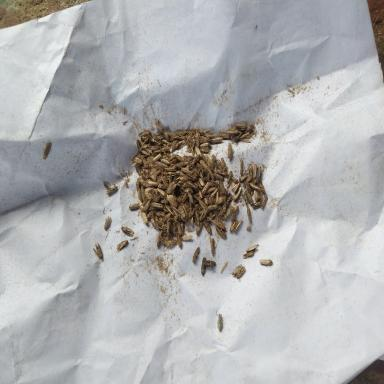pbw: (42, 140, 52, 160), (225, 142, 236, 160), (166, 180, 178, 195), (245, 242, 260, 254), (208, 236, 217, 255), (213, 217, 226, 230), (192, 246, 201, 264), (216, 309, 223, 332), (116, 240, 129, 252), (121, 225, 134, 237), (231, 264, 242, 278), (259, 258, 274, 268), (244, 163, 253, 179), (106, 183, 118, 195), (144, 187, 155, 200), (236, 264, 246, 278), (244, 190, 254, 204), (156, 229, 163, 247), (230, 206, 239, 220), (225, 170, 232, 188), (234, 219, 243, 233), (148, 168, 157, 182), (153, 120, 164, 131), (216, 226, 226, 238), (234, 186, 242, 201), (203, 219, 212, 232), (231, 181, 240, 194), (104, 215, 112, 229), (140, 209, 148, 223), (202, 260, 216, 268), (194, 145, 202, 159), (196, 222, 204, 236), (175, 139, 186, 149), (242, 177, 252, 188), (161, 176, 170, 188), (199, 199, 208, 211), (155, 161, 168, 169), (258, 181, 266, 194), (230, 219, 238, 232), (171, 205, 179, 218), (202, 182, 210, 195), (199, 208, 207, 221), (176, 231, 182, 248), (242, 126, 252, 136), (238, 172, 248, 182), (240, 132, 250, 142), (132, 152, 142, 162), (150, 137, 162, 145), (186, 181, 198, 189), (172, 153, 184, 161), (127, 203, 140, 210), (150, 201, 163, 208), (147, 209, 157, 218), (140, 156, 149, 166), (156, 187, 166, 196), (137, 188, 143, 203), (201, 257, 206, 275), (188, 207, 196, 218), (252, 200, 263, 208), (213, 173, 224, 181), (181, 167, 192, 175), (136, 177, 142, 191), (138, 148, 150, 155), (226, 128, 240, 134), (137, 198, 144, 210), (199, 147, 211, 154), (215, 158, 222, 170), (210, 137, 222, 144), (166, 239, 178, 246), (176, 221, 182, 235), (261, 194, 267, 208), (221, 158, 227, 172), (154, 168, 164, 176), (195, 209, 200, 225), (144, 200, 152, 210), (207, 212, 215, 222), (153, 153, 161, 163), (247, 206, 252, 222), (253, 164, 257, 184), (192, 154, 200, 164), (208, 168, 214, 181), (136, 140, 142, 153), (221, 260, 227, 273), (138, 131, 151, 137), (200, 152, 207, 163), (218, 169, 229, 176), (249, 183, 260, 190), (195, 132, 200, 147), (198, 169, 204, 181), (131, 158, 143, 164), (199, 160, 208, 168), (188, 192, 194, 204), (162, 213, 171, 221), (147, 180, 157, 187), (170, 134, 180, 141), (181, 193, 188, 203), (172, 219, 176, 236), (253, 190, 259, 201), (207, 204, 218, 210), (140, 170, 146, 181), (210, 188, 218, 196), (161, 158, 170, 165), (205, 154, 212, 163), (139, 178, 146, 187), (215, 197, 224, 204), (218, 134, 230, 139), (156, 211, 166, 217), (150, 218, 156, 228), (160, 146, 172, 151), (180, 176, 190, 182), (182, 234, 192, 240), (160, 197, 170, 203), (180, 222, 184, 236), (198, 177, 204, 186), (200, 142, 209, 148), (158, 183, 167, 189), (164, 130, 168, 142), (160, 170, 168, 176), (165, 167, 177, 171), (240, 159, 243, 175), (258, 166, 261, 181), (207, 187, 216, 192), (236, 124, 247, 128), (178, 161, 189, 165), (231, 177, 238, 183), (179, 131, 189, 135), (198, 189, 202, 198), (194, 195, 201, 200), (162, 140, 170, 144), (132, 163, 140, 167), (216, 192, 218, 204)
